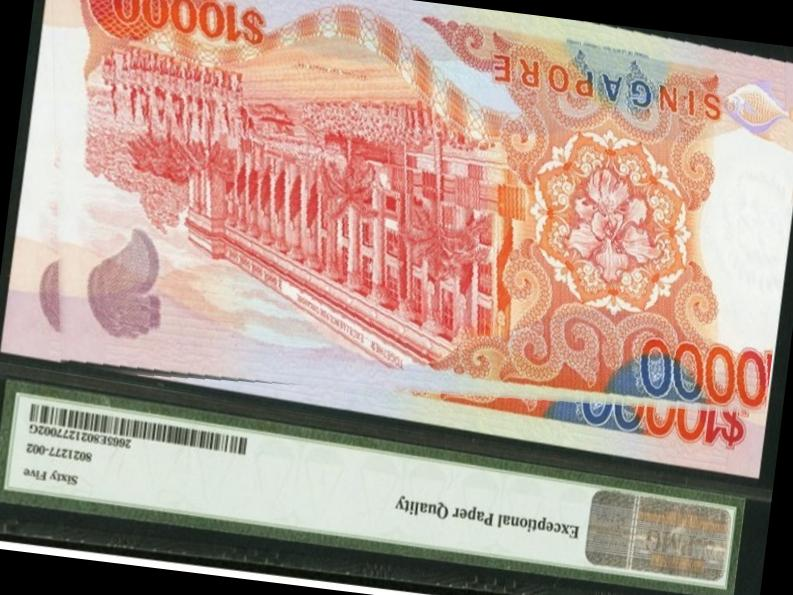10000SingaporeDollar: (1, 0, 793, 455)
